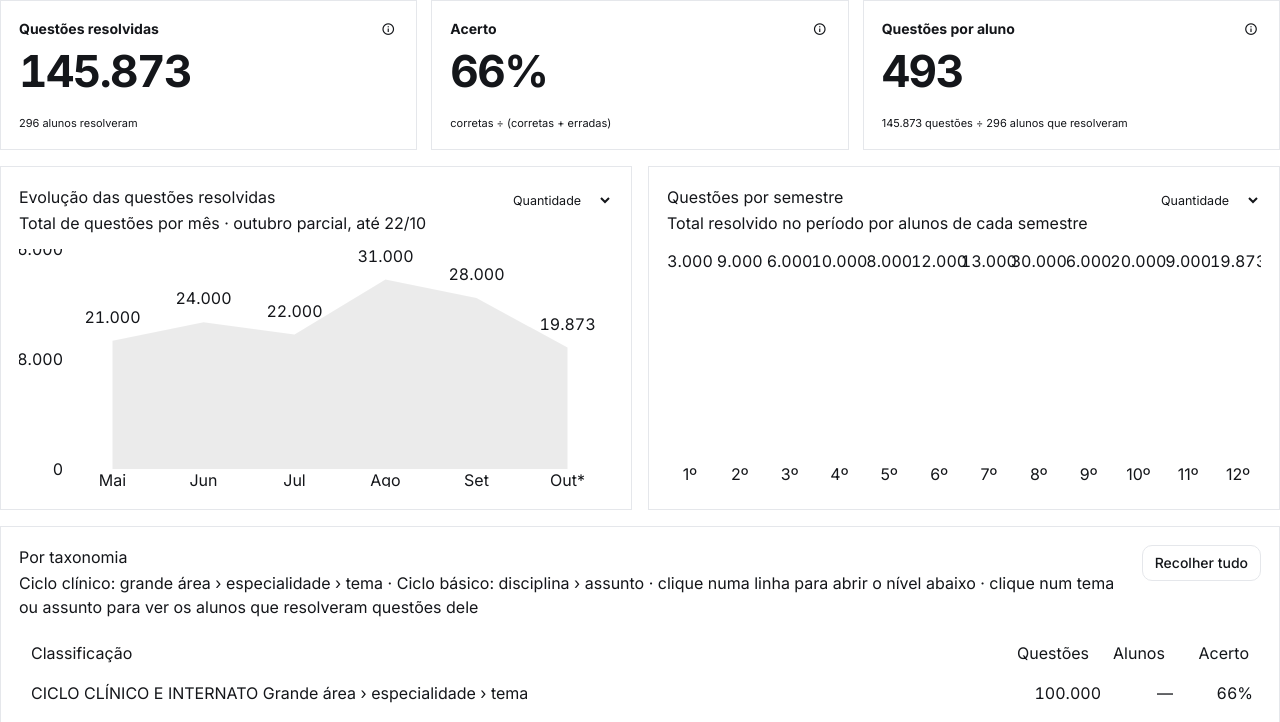
Test: QuestoesEngajamento — Evolução e Por semestre (§12.3) › Evolução › "% de acerto" troca título e descrição, com o eixo calculado na descrição
Select "% de acerto" in the dropdown named "Métrica da evolução" at (556, 200), box left=498, top=185, right=613, bottom=215
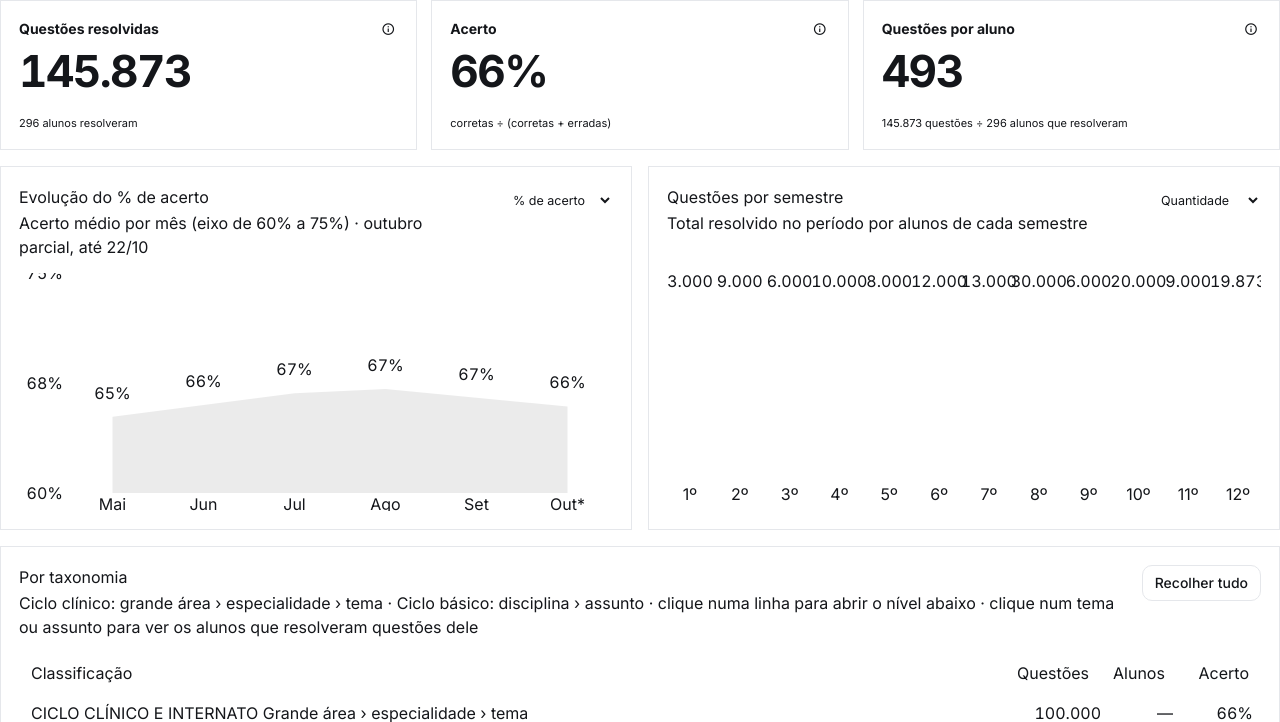
Check: the heading "Evolução do % de acerto" is shown, box left=19, top=187, right=209, bottom=207
Check: the text "Acerto médio por mês (eixo de 60% a 75%) · outubro parcial, até 22/10" is shown, box left=19, top=211, right=482, bottom=259
